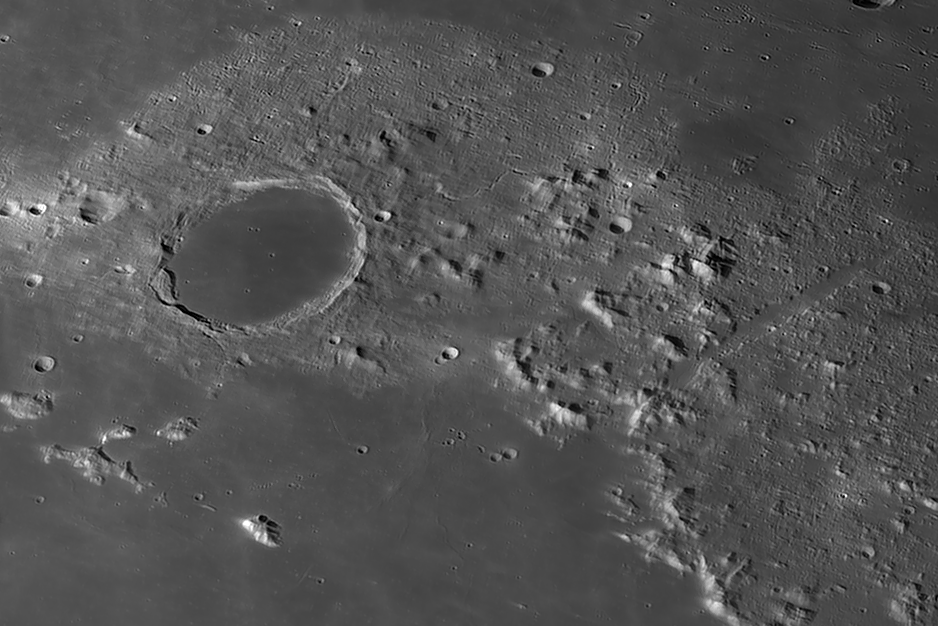crater: (117, 142, 396, 367), (503, 44, 582, 95)
